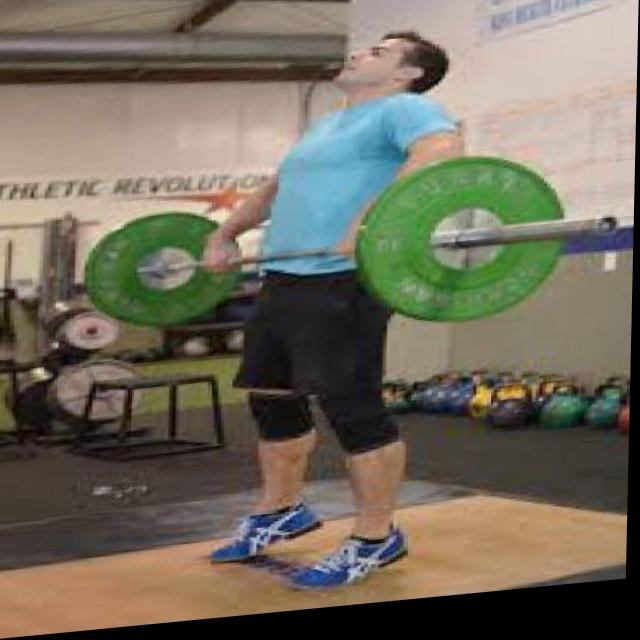barbell: (358, 154, 629, 343)
